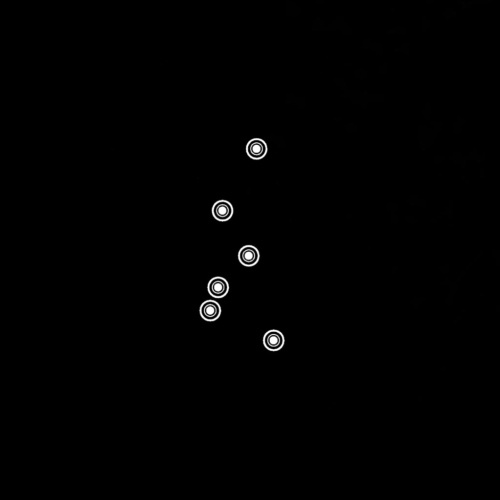cassiopeia: (195, 131, 289, 358)
